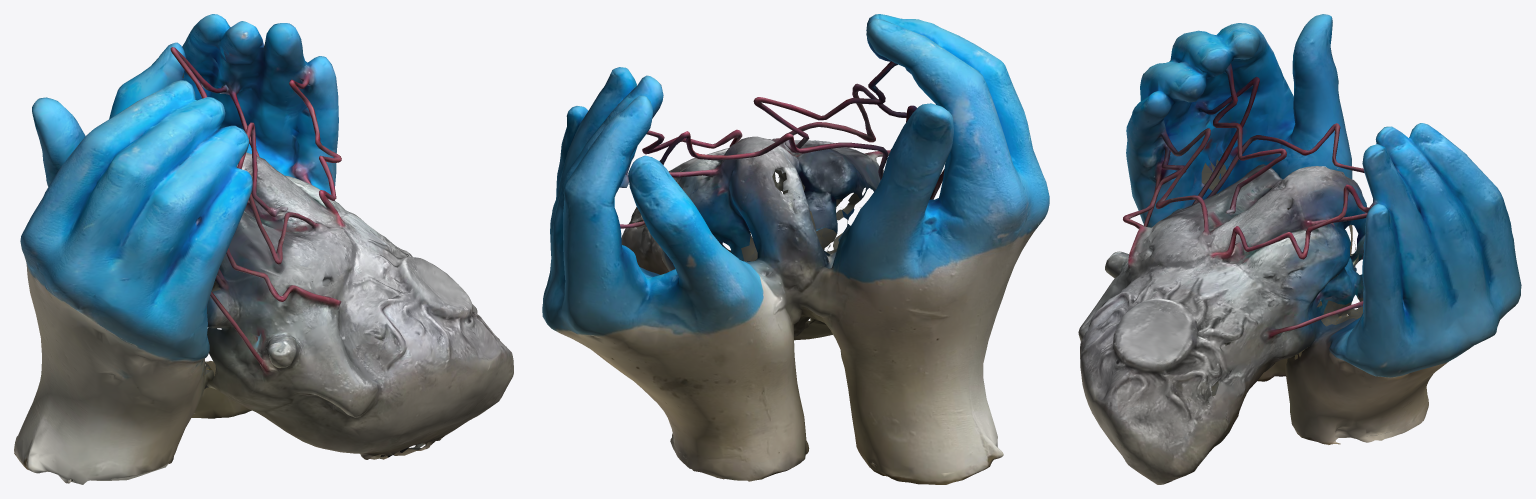
The picture shows the model from 3 angles, left to right: view 1: azimuth 30°, elevation 25°; view 2: azimuth 150°, elevation 25°; view 3: azimuth 270°, elevation 25°; orthographic projection. The views are drawn at different scales.
Parts seen in each view (by area): view 1: Mesh_0.003; view 2: Mesh_0.003; view 3: Mesh_0.003.
Part boxes in pixels (x1=…): Mesh_0.003: x1=14, y1=14, x2=513, y2=484; Mesh_0.003: x1=542, y1=14, x2=1049, y2=484; Mesh_0.003: x1=1078, y1=14, x2=1521, y2=484.
Bounding box in the file's own units: 1.95 × 1.63 × 1.86.
Materials: 9 (8 with a texture image).
